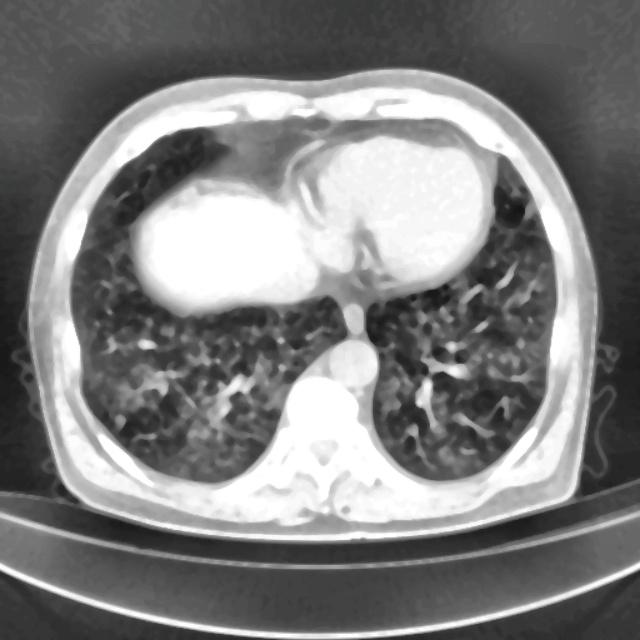covid: (26, 69, 600, 539)
